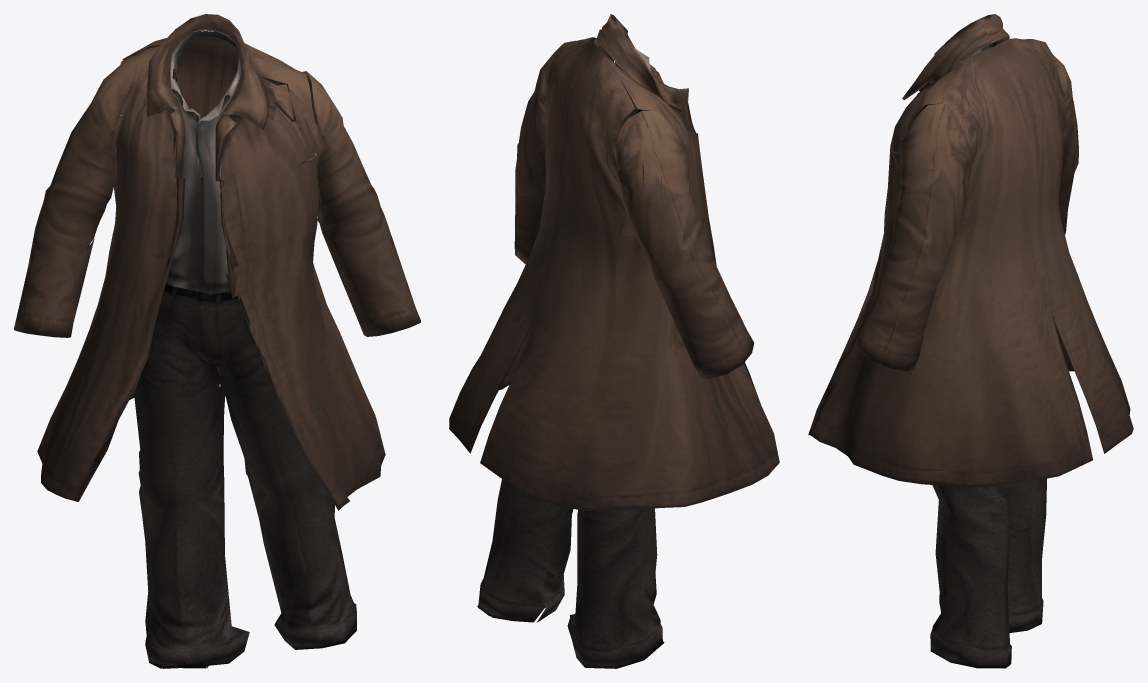
Rendered from Doug_BODY.obj.
3 views of the same model, side by side, from view 1: azimuth 30°, elevation 25°; view 2: azimuth 150°, elevation 25°; view 3: azimuth 270°, elevation 25° (orthographic). The views are drawn at different scales.
Visible parts, largest first — view 1: Doug_BODY; view 2: Doug_BODY; view 3: Doug_BODY.
Boxes of the visible parts, x1=… form: Doug_BODY: x1=14, y1=14, x2=420, y2=668; Doug_BODY: x1=449, y1=14, x2=779, y2=668; Doug_BODY: x1=808, y1=14, x2=1133, y2=668.
Size of the model in its own units: 8.67 by 17.04 by 8.27.
